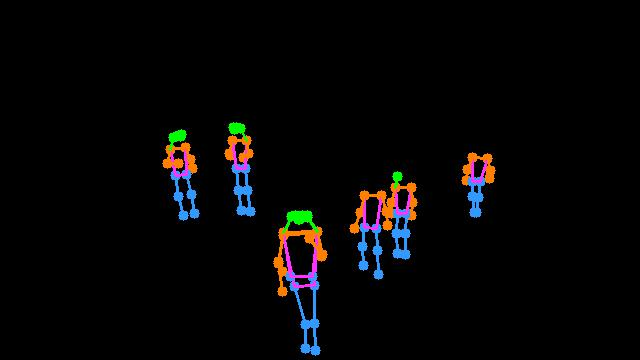normal: (341, 158, 428, 289), (155, 111, 216, 233)
